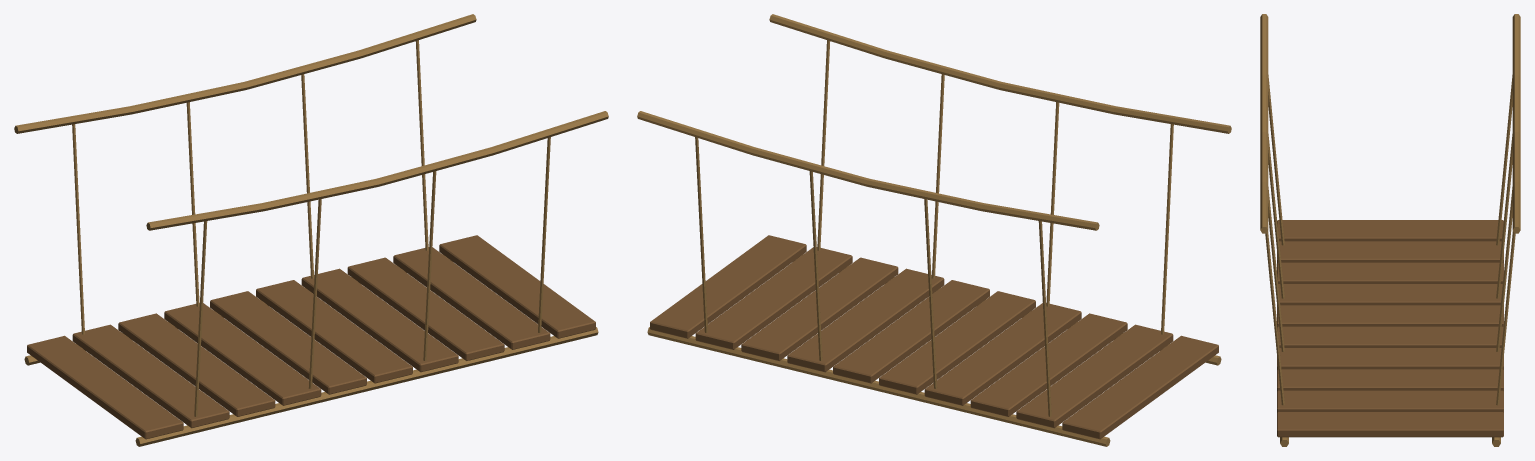
File: Prop_YTM_RopeBridge_Seg_S3.glb
3 renders of one model, left to right at view 1: azimuth 30°, elevation 25°; view 2: azimuth 150°, elevation 25°; view 3: azimuth 270°, elevation 25°, orthographic. The views are drawn at different scales.
Parts seen in each view (by area): view 1: Prop_YTM_RopeBridge_Seg_S3; view 2: Prop_YTM_RopeBridge_Seg_S3; view 3: Prop_YTM_RopeBridge_Seg_S3.
Part boxes in pixels (x1,y1,x2,y2): Prop_YTM_RopeBridge_Seg_S3: (14,14,608,446); Prop_YTM_RopeBridge_Seg_S3: (637,14,1231,446); Prop_YTM_RopeBridge_Seg_S3: (1260,14,1520,446).
Size of what is drawn, in the model's own units: 2 by 0.9614 by 1.03.
